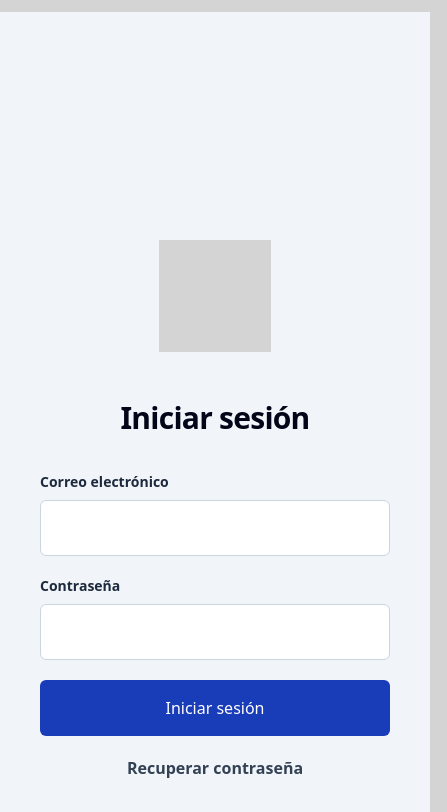
Test: Aceptacion del modulo de autenticacion › permite ir a recuperar password desde la pantalla de login
Click the link "Recuperar contraseña".
click(215, 768)  # box 127,757 -> 303,779
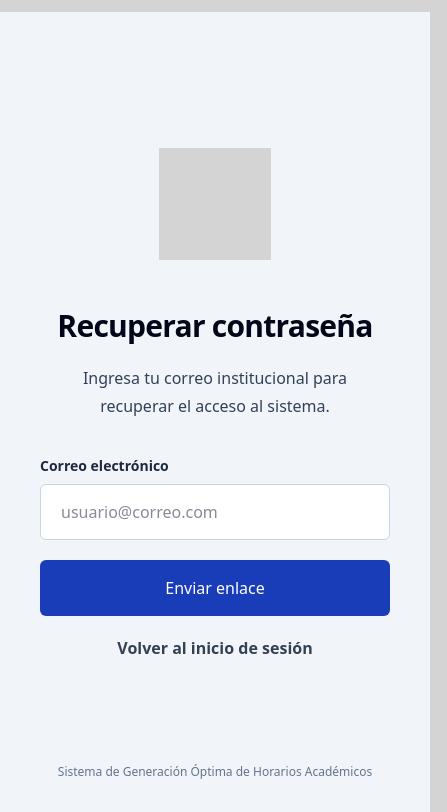
Expected: the field named "correo" is shown, 40,484 -> 390,540
Now the button "Enviar enlace" is shown, box 40,560 -> 390,616
